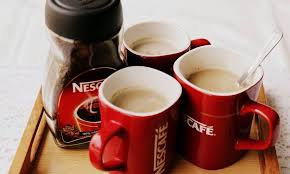nescafe-classic/gold-med: (38, 1, 124, 138)
nescafe-mug: (179, 36, 279, 170), (86, 68, 182, 174)
